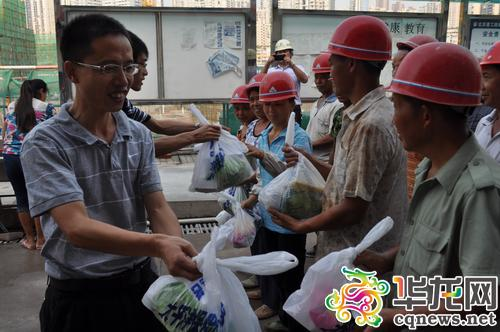helmet: (384, 41, 486, 106), (326, 20, 394, 63), (260, 73, 300, 104), (314, 54, 337, 74), (276, 38, 296, 53), (232, 86, 249, 103), (250, 74, 266, 89)
